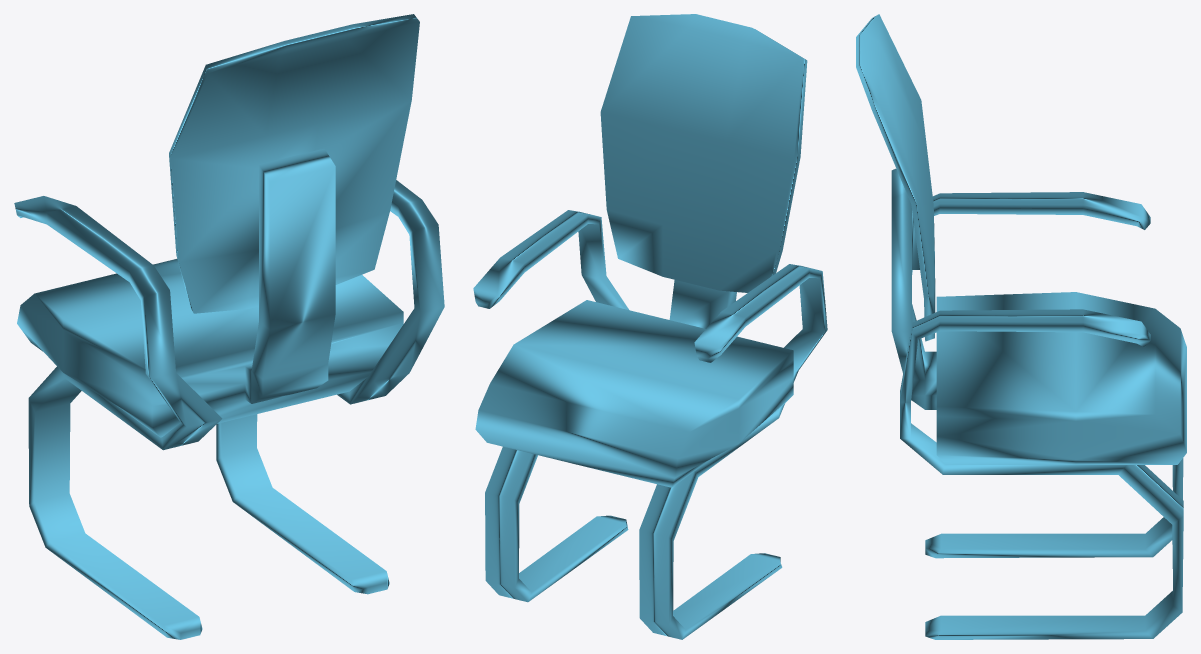
Rendered from Silla.fbx.
3 views of the same model, side by side, from view 1: azimuth 30°, elevation 25°; view 2: azimuth 150°, elevation 25°; view 3: azimuth 270°, elevation 25° (orthographic). The views are drawn at different scales.
Visible parts, largest first — view 1: Silla; view 2: Silla; view 3: Silla.
Boxes of the visible parts, box(x1,y1,x2,y2) form: Silla: box(14, 14, 444, 639); Silla: box(473, 14, 827, 639); Silla: box(856, 14, 1186, 639).
Bounding box in the file's own units: 112 × 218 × 120.
